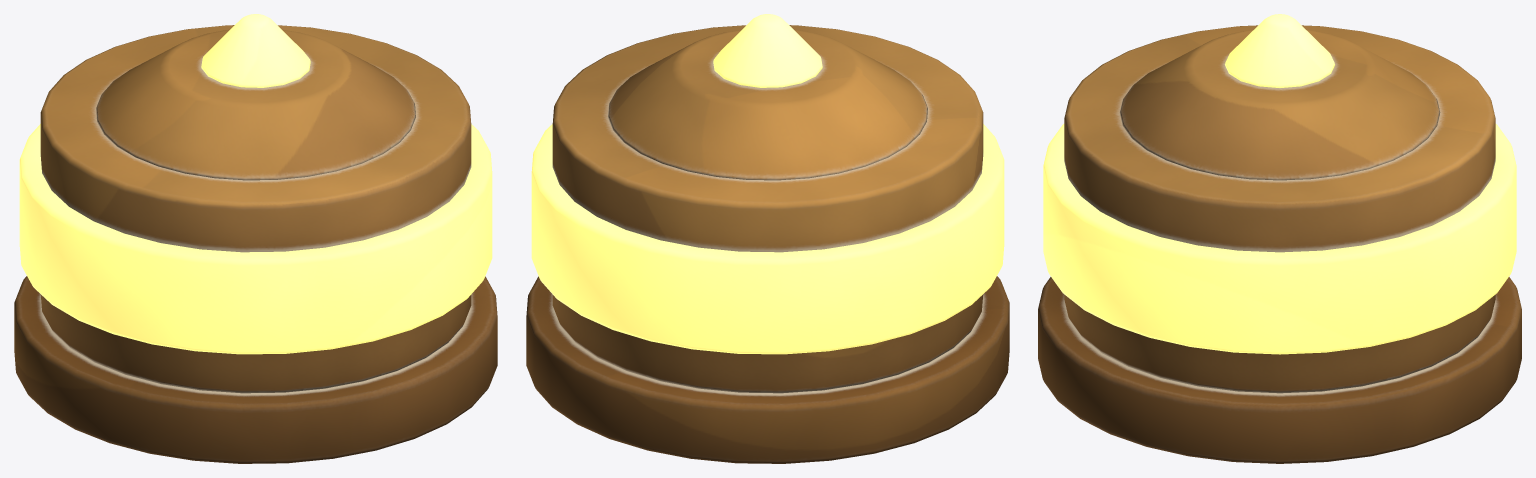
File: GF_Core.glb
3 views of the same model, side by side, from view 1: azimuth 30°, elevation 25°; view 2: azimuth 150°, elevation 25°; view 3: azimuth 270°, elevation 25° (orthographic).
Parts seen in each view (by area): view 1: GF_Core; view 2: GF_Core; view 3: GF_Core.
Boxes of the visible parts, x1=… form: GF_Core: x1=14, y1=14, x2=497, y2=463; GF_Core: x1=526, y1=14, x2=1009, y2=463; GF_Core: x1=1038, y1=14, x2=1521, y2=463.
Size of the model in its own units: 1.84 by 1.45 by 1.84.
3 materials, 3 textured.
